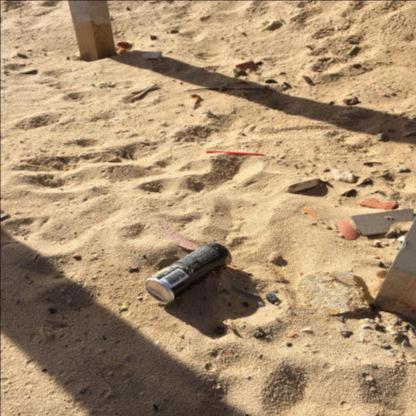Bottle: (192, 104, 201, 110)
Can: (145, 242, 232, 302)
Straw: (206, 150, 264, 155)
Unlabeled litter: (259, 18, 283, 31)
